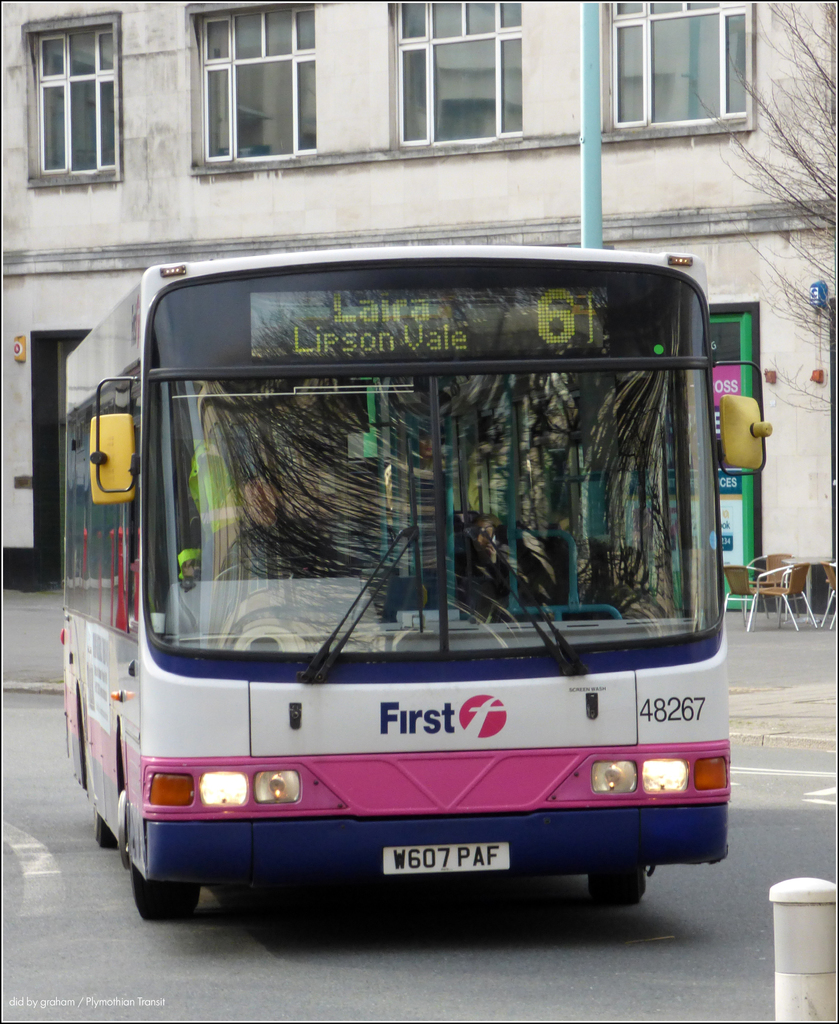Bus: (64, 239, 769, 916)
